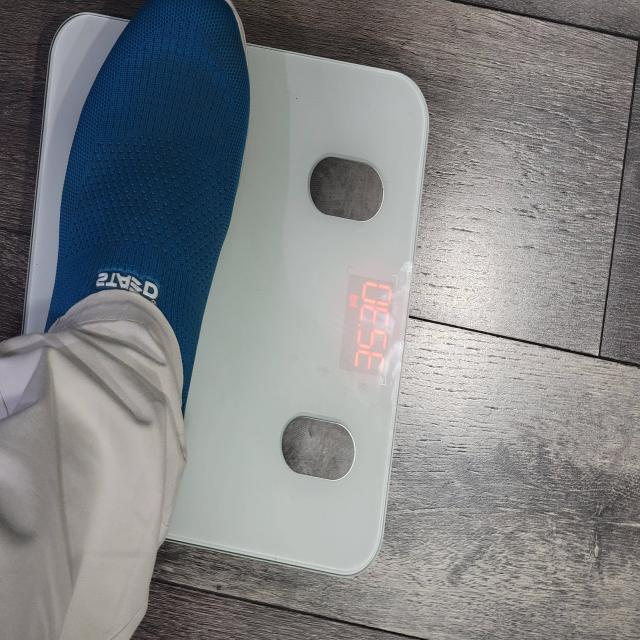ws: (164, 44, 430, 577)
